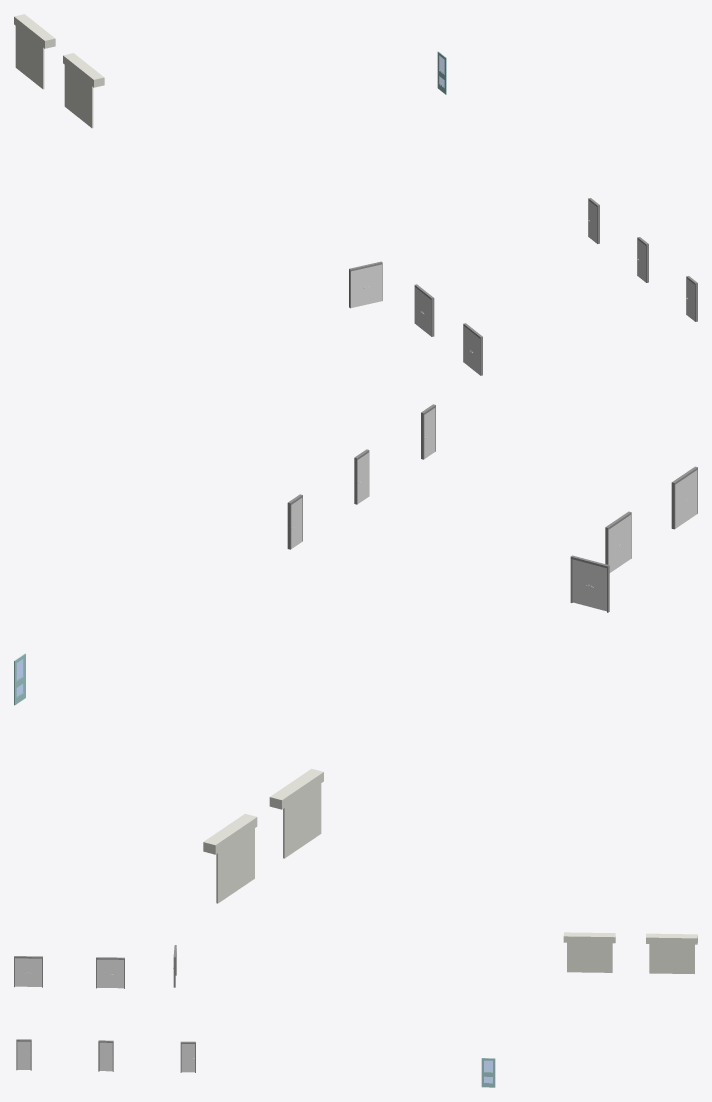
Rendered from 20160125Autodesk_Hospital_Parking Garage_2015_Exist_Garage_-_Ground_Level_IfcDoor.dae.
3 views of the same model, one above another, from view 1: azimuth 30°, elevation 25°; view 2: azimuth 150°, elevation 25°; view 3: azimuth 270°, elevation 25° (orthographic). The views are drawn at different scales.
Visible parts, largest first — view 1: 1itcVTZhD87QA6mzuiLwQc, 1itcVTZhD87QA6mzuiLwP6, 126ik1xGz4KR32A15Yji0m, 126ik1xGz4KR32A15Yji3M, 126ik1xGz4KR32A15Yji2B; view 2: 1itcVTZhD87QA6mzuiLwQc, 1itcVTZhD87QA6mzuiLwP6, 126ik1xGz4KR32A15Yji0m, 126ik1xGz4KR32A15Yji2B, 126ik1xGz4KR32A15Yji3M, 126ik1xGz4KR32A15YjiB4, 126ik1xGz4KR32A15Yji8t; view 3: 1itcVTZhD87QA6mzuiLwQc, 1itcVTZhD87QA6mzuiLwP6, 126ik1xGz4KR32A15Yji3M, 126ik1xGz4KR32A15Yji2B, 126ik1xGz4KR32A15Yji8t, 126ik1xGz4KR32A15YjiB4, 126ik1xGz4KR32A15Yji5Z, 3OW$tKlfTEKO1v0QAmwGiu.
Boxes of the visible parts, <box> form: 1itcVTZhD87QA6mzuiLwQc: <box>63,53,104,128</box>; 1itcVTZhD87QA6mzuiLwP6: <box>14,14,55,89</box>; 126ik1xGz4KR32A15Yji0m: <box>349,261,382,308</box>; 126ik1xGz4KR32A15Yji3M: <box>414,284,434,336</box>; 126ik1xGz4KR32A15Yji2B: <box>463,323,482,375</box>; 1itcVTZhD87QA6mzuiLwQc: <box>269,768,323,858</box>; 1itcVTZhD87QA6mzuiLwP6: <box>203,813,257,903</box>; 126ik1xGz4KR32A15Yji0m: <box>570,555,609,612</box>; 126ik1xGz4KR32A15Yji2B: <box>671,466,697,529</box>; 126ik1xGz4KR32A15Yji3M: <box>605,511,631,572</box>; 126ik1xGz4KR32A15YjiB4: <box>354,449,369,504</box>; 126ik1xGz4KR32A15Yji8t: <box>287,494,302,549</box>; 1itcVTZhD87QA6mzuiLwQc: <box>563,932,615,972</box>; 1itcVTZhD87QA6mzuiLwP6: <box>646,933,697,973</box>; 126ik1xGz4KR32A15Yji3M: <box>96,957,124,988</box>; 126ik1xGz4KR32A15Yji2B: <box>14,956,42,987</box>; 126ik1xGz4KR32A15Yji8t: <box>180,1041,195,1072</box>; 126ik1xGz4KR32A15YjiB4: <box>98,1040,113,1071</box>; 126ik1xGz4KR32A15Yji5Z: <box>16,1039,31,1070</box>; 3OW$tKlfTEKO1v0QAmwGiu: <box>481,1058,495,1087</box>.
Bounding box in the file's own units: 18.28 × 45.62 × 2.9.
